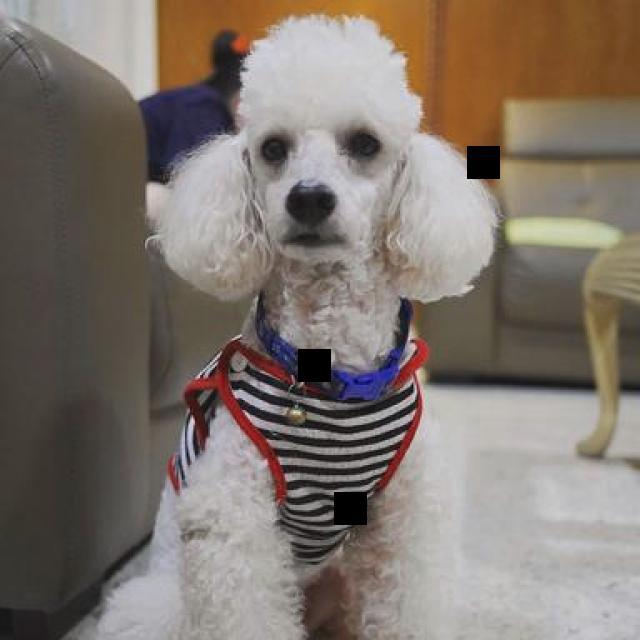adult_dog: (83, 13, 501, 640)
